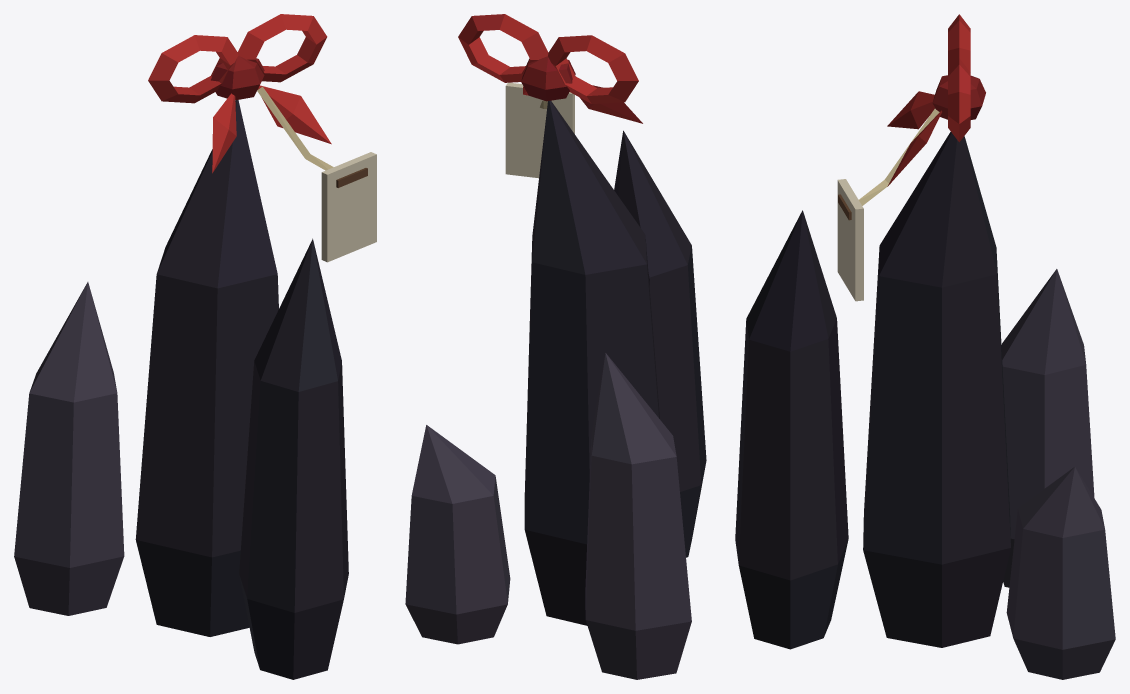
The model's file is quest_obsidian.glb.
3 renders of one model, left to right at view 1: azimuth 30°, elevation 25°; view 2: azimuth 150°, elevation 25°; view 3: azimuth 270°, elevation 25°, orthographic. The views are drawn at different scales.
Visible parts, largest first — view 1: quest_obsidian; view 2: quest_obsidian; view 3: quest_obsidian.
Boxes of the visible parts, box(x1,y1,x2,y2) form: quest_obsidian: box(14, 14, 376, 679); quest_obsidian: box(405, 14, 706, 679); quest_obsidian: box(735, 14, 1115, 679).
Size of the model in its own units: 0.2279 by 0.4573 by 0.2627.
